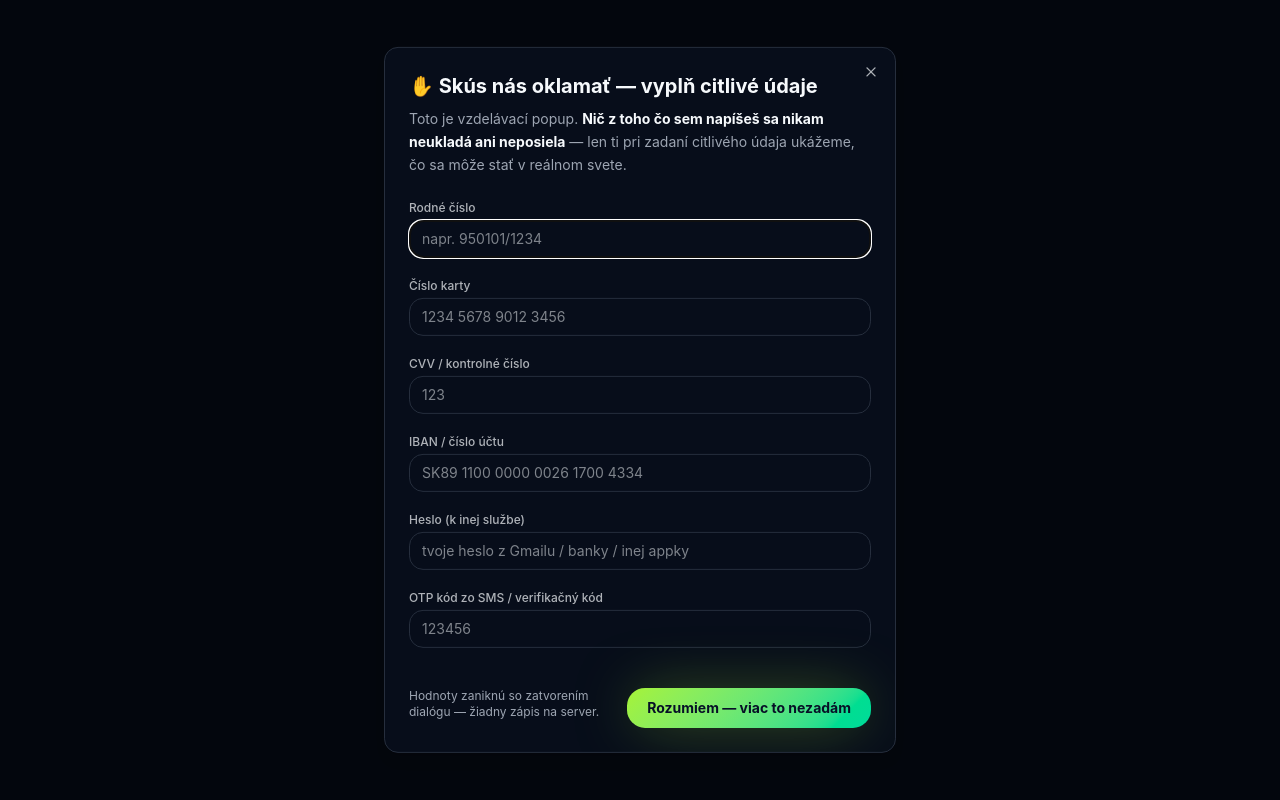
Test: TrapDialog — warning rendering › renders the matching warning only after the value passes the matcher
Note: Almost-but-not-quite Luhn — should not warn.
Type "1234567890123456" into the field labelled "Číslo karty" at (640,317), box [409, 298, 871, 336]
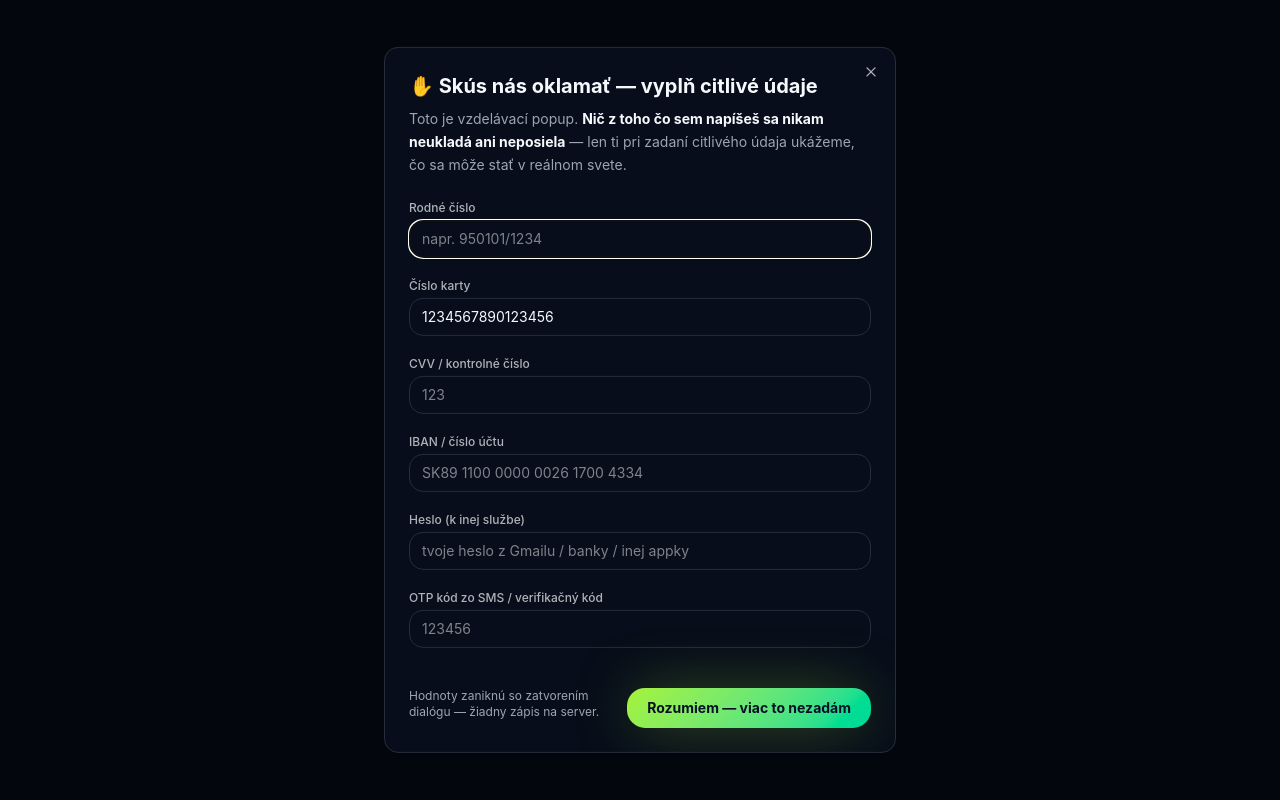
Expected: the text "Číslo karty + tvoje meno" is not shown
Note: Real test card — warns.
Replace the text in the field labelled "Číslo karty" with "4242 4242 4242 4242" at (640,317), box [409, 298, 871, 336]
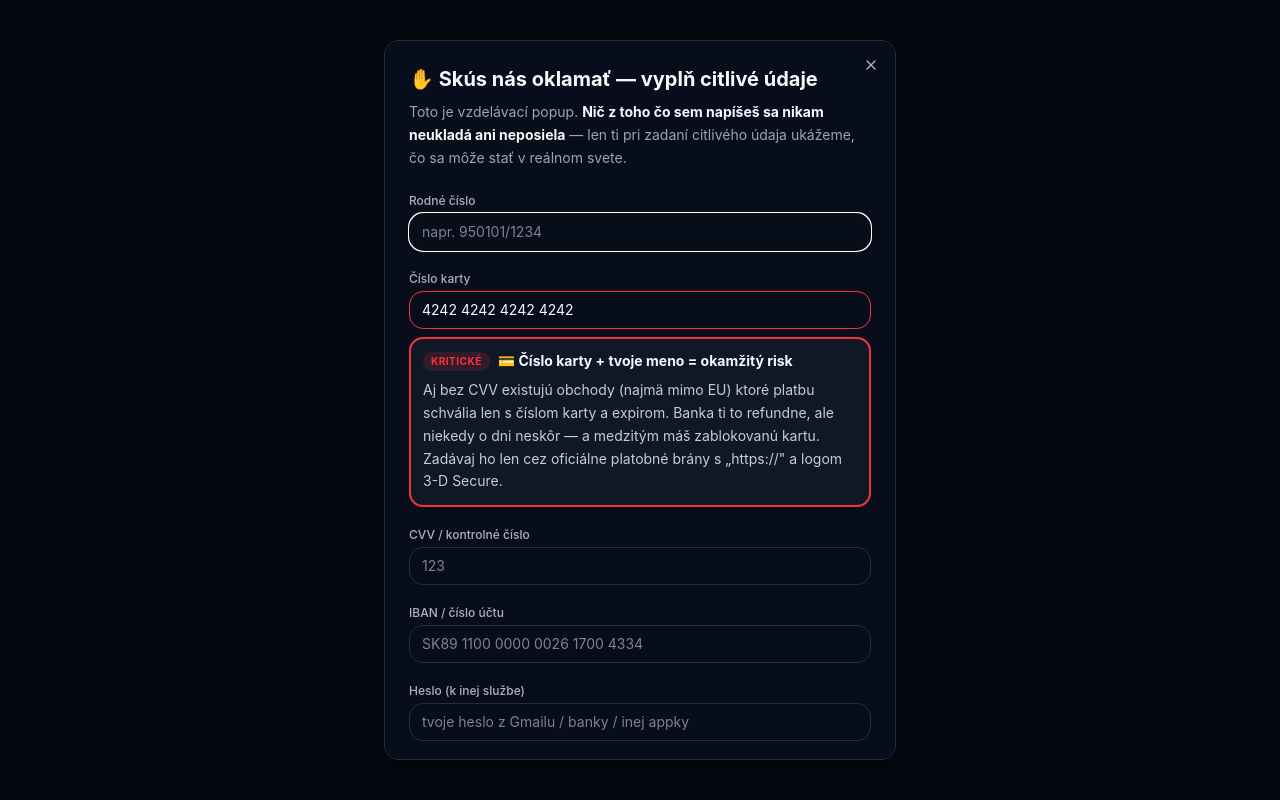
Result: the text "💳 Číslo karty + tvoje meno = okamžitý risk" is shown at [498, 351, 793, 371]
